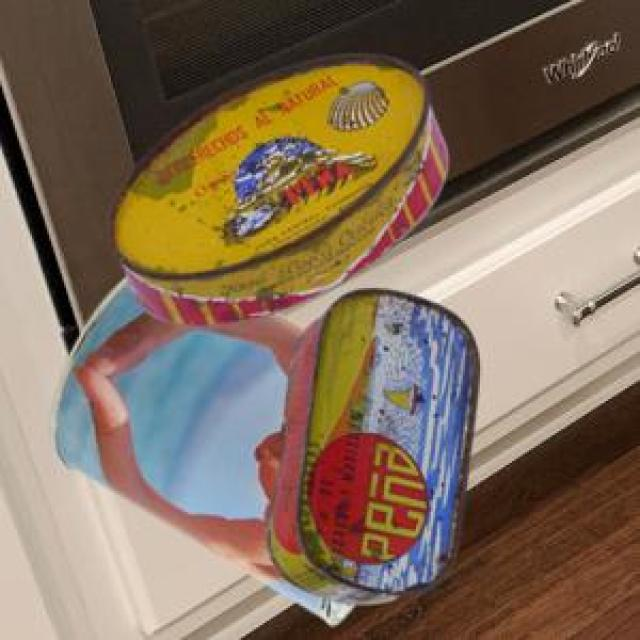logam: (46, 274, 351, 622), (106, 52, 445, 323), (263, 285, 477, 601)
